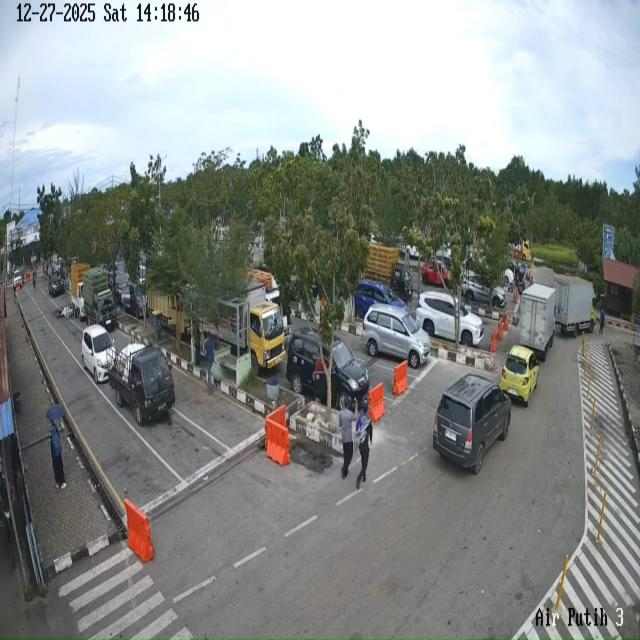Golongan IVA: (433, 373, 511, 475), (286, 327, 370, 410), (363, 305, 430, 369), (416, 291, 484, 347), (499, 345, 540, 406), (354, 280, 406, 319), (81, 324, 113, 384), (462, 271, 506, 308), (48, 271, 65, 297)
Golongan IVB: (108, 343, 176, 426), (81, 268, 114, 330), (70, 263, 90, 321)
Golongan VB: (202, 281, 285, 374), (520, 283, 556, 362), (554, 275, 597, 337)
